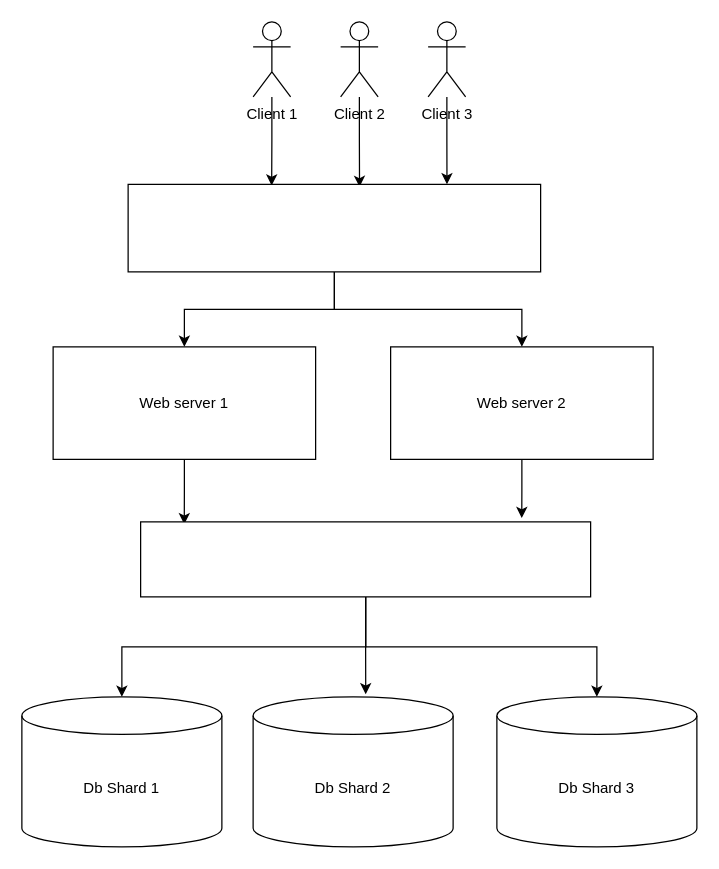
Some shapes in this 719 by 869 pixel diagram are drawn without their labels. Each missing label, with the centre of its shape:
"Load balancer" goes at (x=334, y=227).
"Shards router" goes at (x=365, y=559).
